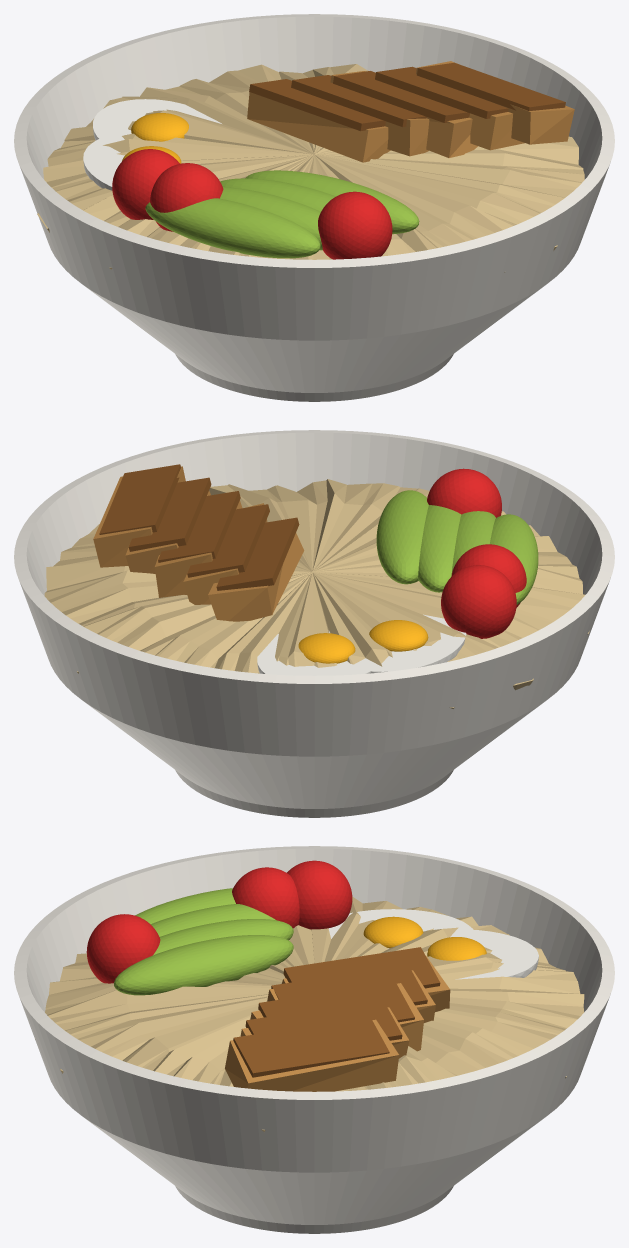
The model's file is bowl.glb.
3 renders of one model, top to bottom at view 1: azimuth 30°, elevation 25°; view 2: azimuth 150°, elevation 25°; view 3: azimuth 270°, elevation 25°, orthographic.
Parts seen in each view (by area): view 1: bowl, quinua, palta0, pollo0, tomate2, dorado4, tomate0, tomate1, palta3, dorado0, dorado2, dorado3 (+10 smaller); view 2: bowl, quinua, tomate0, palta3, dorado4, pollo0, palta2, dorado0, dorado3, tomate2, dorado1, dorado2 (+11 smaller); view 3: bowl, quinua, palta3, dorado4, pollo4, tomate2, tomate0, tomate1, dorado0, dorado2, dorado3, dorado1 (+10 smaller).
Part boxes in pixels (x1=…): bowl: x1=14, y1=14, x2=614, y2=401; quinua: x1=37, y1=64, x2=584, y2=272; palta0: x1=145, y1=198, x2=320, y2=258; pollo0: x1=247, y1=92, x2=390, y2=162; tomate2: x1=318, y1=191, x2=392, y2=259; dorado4: x1=417, y1=62, x2=565, y2=110; tomate0: x1=112, y1=149, x2=179, y2=219; tomate1: x1=150, y1=163, x2=223, y2=231; palta3: x1=245, y1=170, x2=419, y2=234; dorado0: x1=249, y1=79, x2=385, y2=131; dorado2: x1=333, y1=71, x2=469, y2=122; dorado3: x1=375, y1=66, x2=508, y2=118; bowl: x1=14, y1=430, x2=614, y2=817; quinua: x1=44, y1=479, x2=589, y2=708; tomate0: x1=441, y1=565, x2=516, y2=638; palta3: x1=376, y1=490, x2=428, y2=584; dorado4: x1=99, y1=464, x2=181, y2=534; pollo0: x1=208, y1=533, x2=304, y2=621; palta2: x1=418, y1=505, x2=461, y2=592; dorado0: x1=216, y1=517, x2=299, y2=590; dorado3: x1=128, y1=477, x2=211, y2=551; tomate2: x1=427, y1=468, x2=501, y2=517; dorado1: x1=187, y1=504, x2=269, y2=577; dorado2: x1=158, y1=491, x2=240, y2=562; bowl: x1=14, y1=846, x2=614, y2=1233; quinua: x1=35, y1=896, x2=584, y2=1132; palta3: x1=114, y1=935, x2=293, y2=995; dorado4: x1=233, y1=1016, x2=389, y2=1077; pollo4: x1=225, y1=1019, x2=399, y2=1091; tomate2: x1=86, y1=914, x2=160, y2=983; tomate0: x1=287, y1=860, x2=352, y2=929; tomate1: x1=232, y1=867, x2=299, y2=928; dorado0: x1=283, y1=947, x2=440, y2=988; dorado2: x1=258, y1=982, x2=414, y2=1022; dorado3: x1=245, y1=999, x2=402, y2=1040; dorado1: x1=271, y1=964, x2=427, y2=1005.
Bounding box in the file's own units: 0.19 × 0.08 × 0.19.
